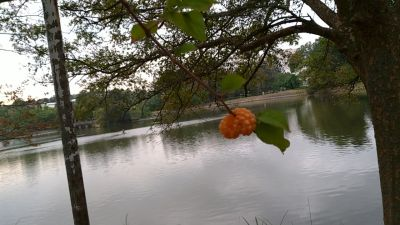eggs: (220, 106, 257, 141)
